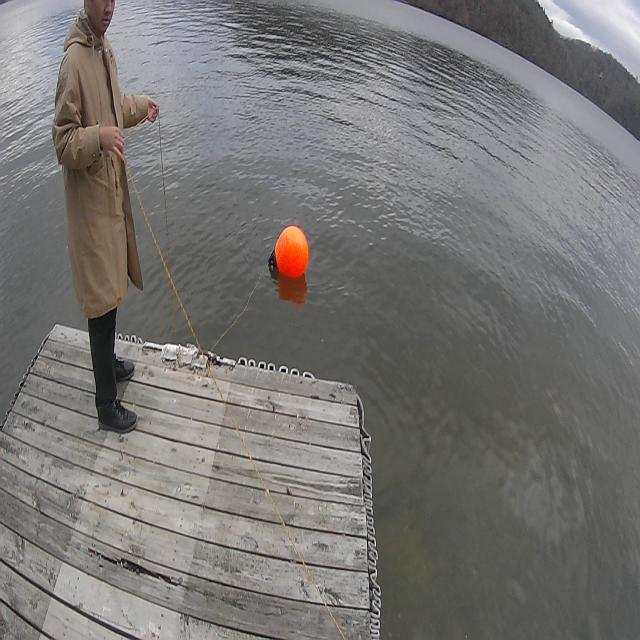Buoy: (274, 223, 310, 282)
